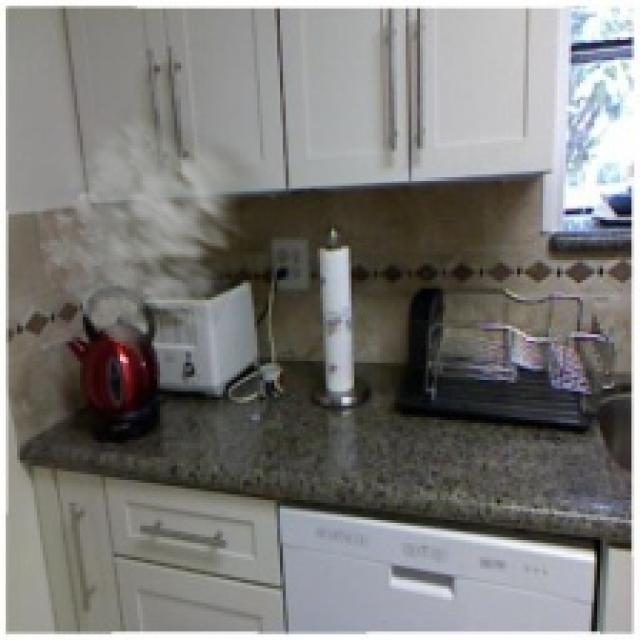smoke: (37, 103, 280, 363)
